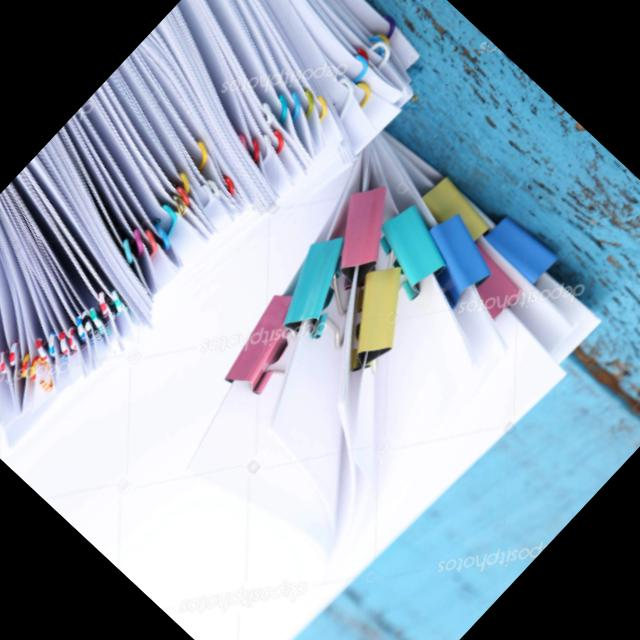KertasBekas: (0, 0, 451, 487)
